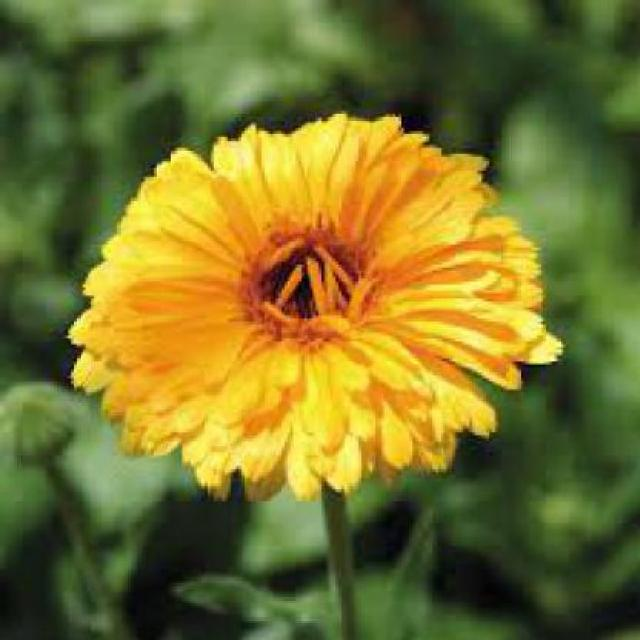Flower: (68, 111, 566, 503)
